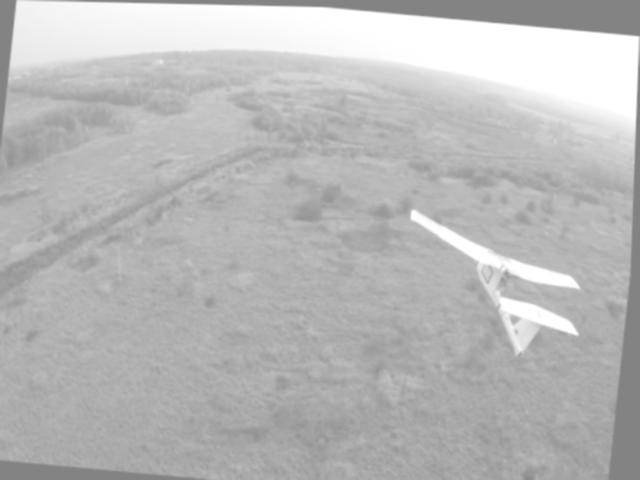hedef: (396, 202, 596, 363)
